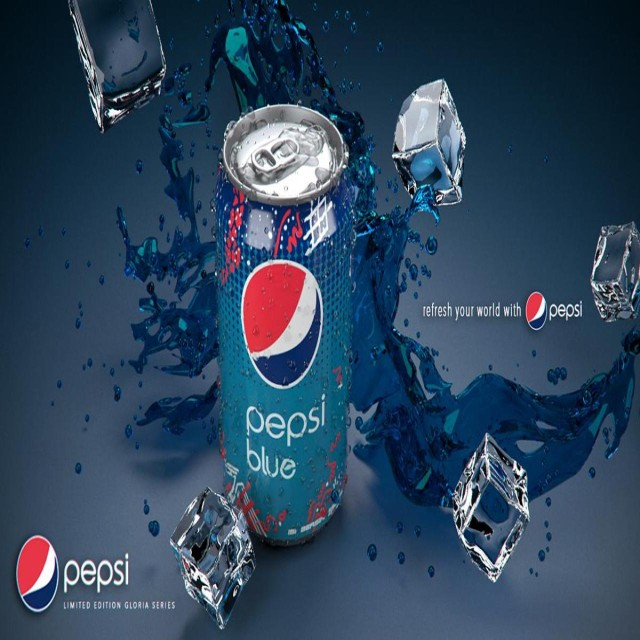pepsi: (240, 259, 327, 389), (14, 533, 58, 617), (525, 290, 548, 332)
